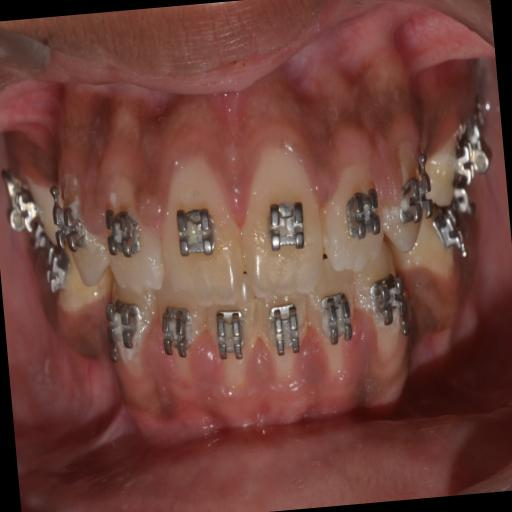correct_brace: (258, 184, 310, 269), (172, 196, 222, 274), (364, 274, 406, 354), (104, 200, 150, 272), (337, 186, 380, 253), (266, 299, 308, 366), (316, 292, 356, 362), (211, 304, 252, 372), (389, 176, 431, 236), (157, 304, 198, 364), (55, 200, 90, 270), (112, 308, 146, 366)
incorrect_brace: (102, 175, 166, 299), (317, 164, 387, 274), (306, 272, 362, 382), (152, 298, 206, 376)
